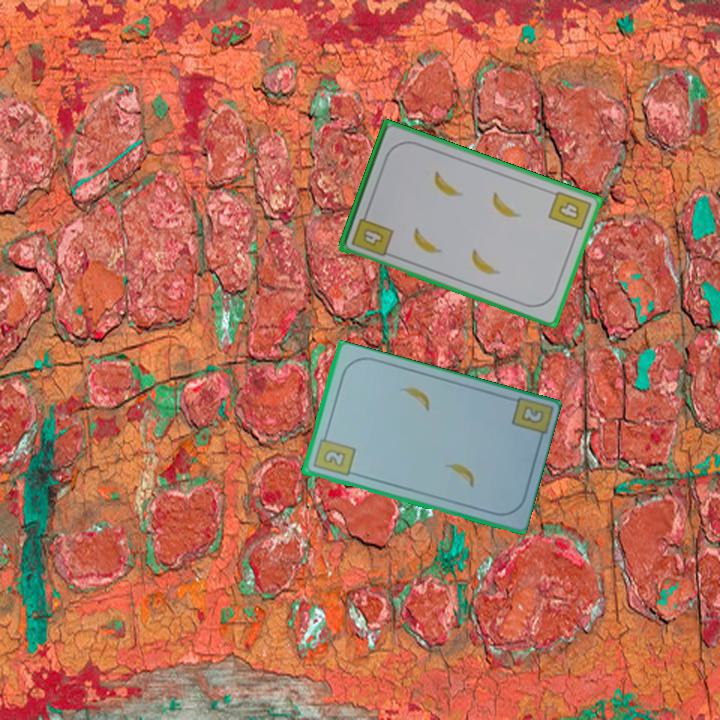2b: (309, 430, 358, 479), (517, 402, 546, 427)
4b: (545, 187, 594, 239), (348, 208, 396, 259)
